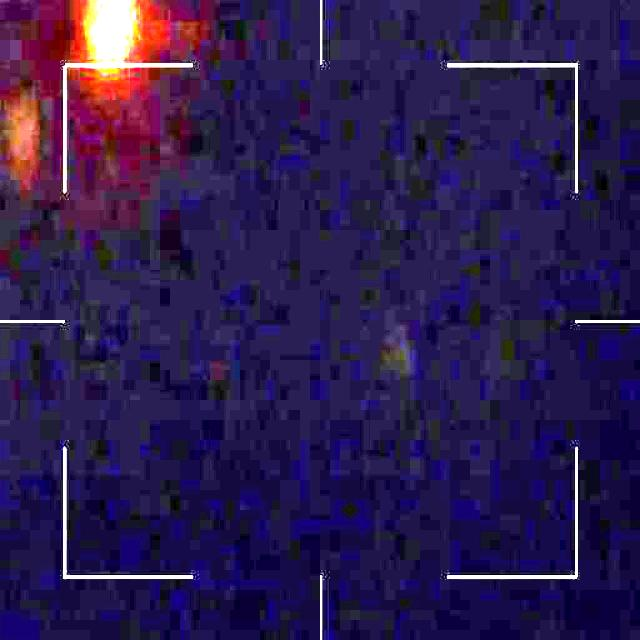bird: (86, 0, 138, 70)
